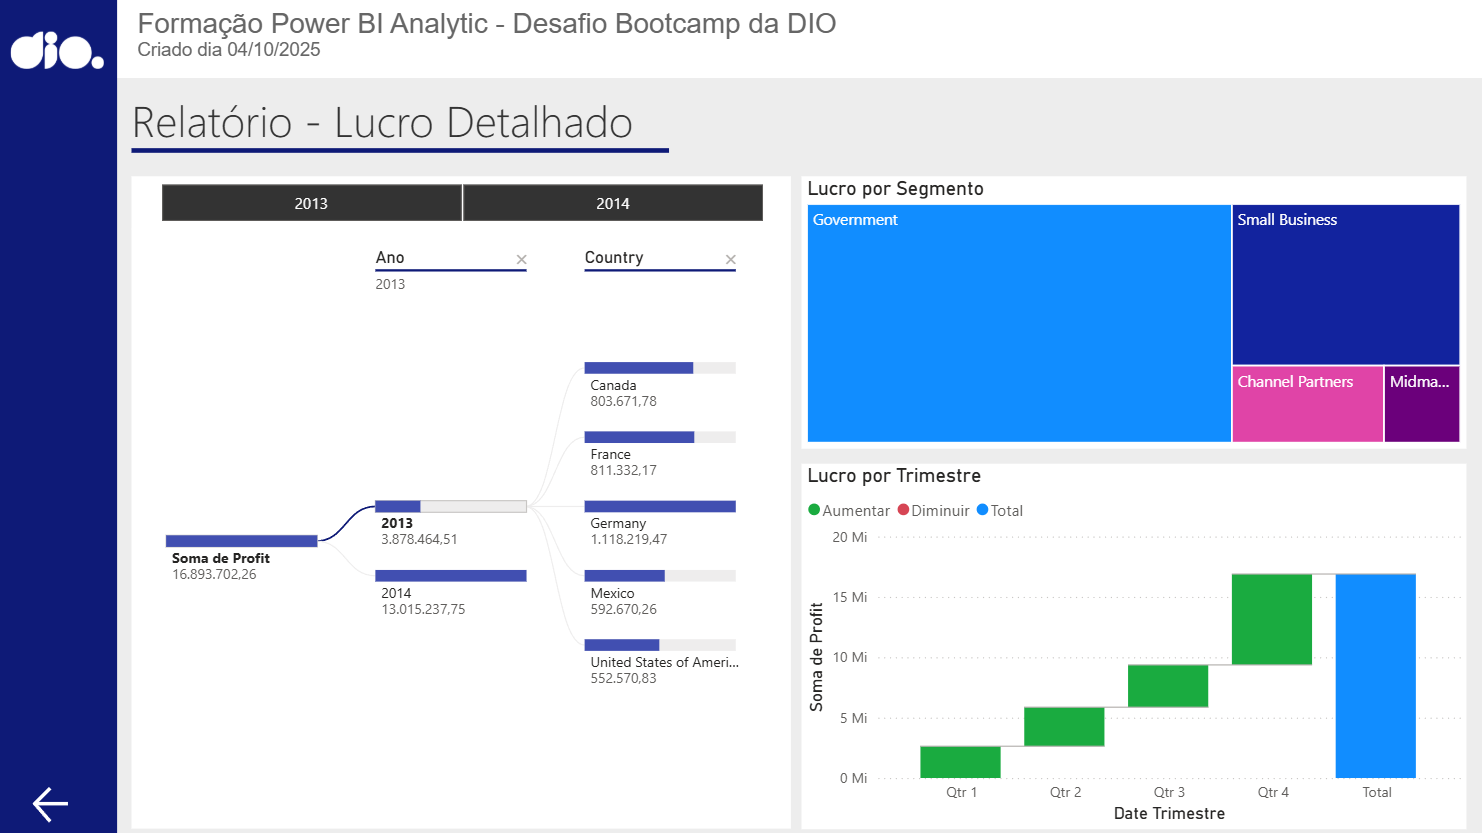

The dashboard page shown, as its layout file describes it:
{"tool":"powerbi","page":{"name":"Página 2","canvas":[1280,720],"ordinal":1},"visuals":[{"type":"shape","box":[100.7,0,1179.3,67.1],"z":0},{"type":"shape","box":[0,0,101.9,720],"z":1000},{"type":"textbox","box":[113.9,2.4,1136.2,64.7],"z":2000},{"type":"shape","box":[113.9,73.1,462.6,112.7],"z":2500},{"type":"shape","box":[113.9,76.7,459,52.7],"z":3000},{"type":"image","box":[5.8,0,89.5,86.6],"z":5000},{"type":"actionButton","box":[25,671.9,51.6,40.6],"z":6000},{"type":"treemap","title":"Lucro por Segmento","fields":{"Values":["Sum(Sheet1.Profit)"],"Group":["Sheet1.Segment"]},"box":[690.6,151.6,571.9,234.4],"z":7000},{"type":"slicer","fields":{"Values":["Sheet1.Date.Variation.Hierarquia de datas.Ano"]},"box":[114.1,151.6,567.2,45.3],"z":8000},{"type":"waterfallChart","title":"Lucro por Trimestre","fields":{"Category":["Sheet1.Date.Variation.Hierarquia de datas.Trimestre"],"Y":["Sum(Sheet1.Profit)"]},"box":[690.6,398.4,571.9,314.1],"z":9000},{"type":"decompositionTreeVisual","fields":{"ExplainBy":["Sheet1.Date.Variation.Hierarquia de datas.Ano","Sheet1.Country"],"Analyze":["Sum(Sheet1.Profit)"]},"box":[114.1,196.9,567.2,515.6],"z":10000}]}

Visuals, with their boxes on the page's 1280x720 design canvas (x1, y1, x2, y2). These are canvas units, not pixel positions in the 1482x833 screenshot, which may show the page scaled, cropped or inside an application window:
shape: 101, 0, 1280, 67
shape: 0, 0, 102, 720
textbox: 114, 2, 1250, 67
shape: 114, 73, 576, 186
shape: 114, 77, 573, 129
image: 6, 0, 95, 87
actionButton: 25, 672, 77, 712
"Lucro por Segmento" treemap: 691, 152, 1262, 386
slicer - Sheet1.Date.Variation.Hierarquia de datas.Ano: 114, 152, 681, 197
"Lucro por Trimestre" waterfallChart: 691, 398, 1262, 712
decompositionTreeVisual - Sheet1.Date.Variation.Hierarquia de datas.Ano x Sheet1.Country: 114, 197, 681, 712
